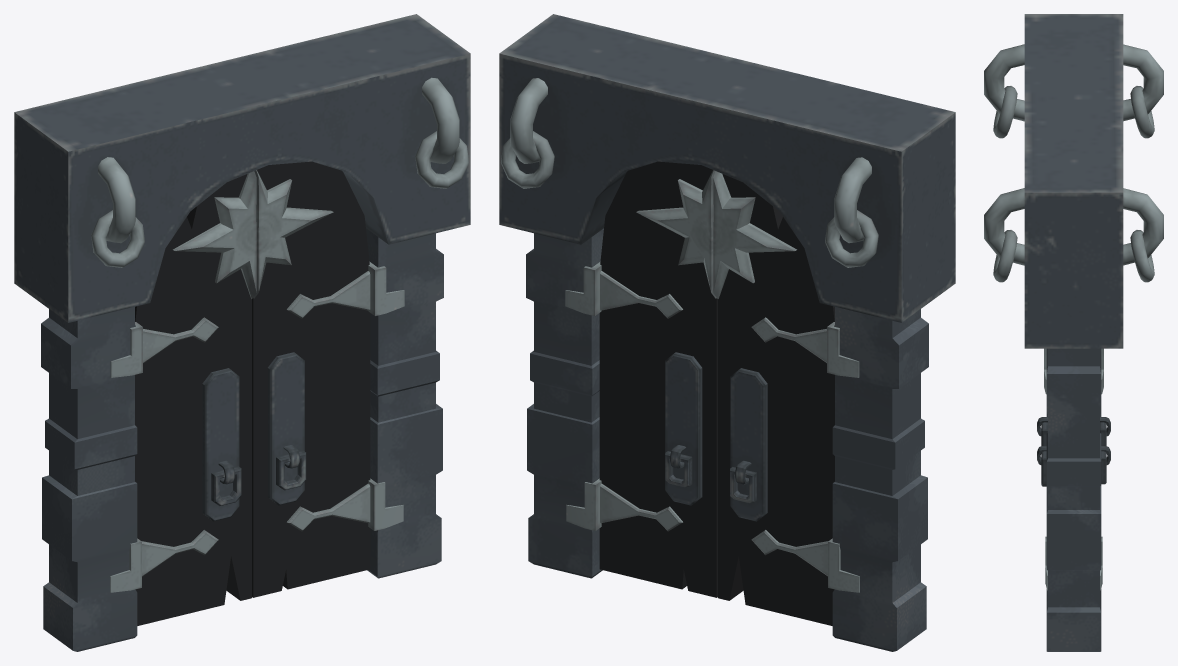
Rendered from heavy_door.glb.
The picture shows the model from 3 angles, left to right: view 1: azimuth 30°, elevation 25°; view 2: azimuth 150°, elevation 25°; view 3: azimuth 270°, elevation 25°; orthographic projection. The views are drawn at different scales.
Parts seen in each view (by area): view 1: mesh; view 2: mesh; view 3: mesh.
Part boxes in pixels (box(x1,y1,x2,y2)): mesh: box(14, 14, 470, 651); mesh: box(499, 14, 955, 651); mesh: box(984, 14, 1163, 651).
Size of the model in its own units: 8.33 by 10.19 by 3.54.
Materials: 1 (1 with a texture image).
